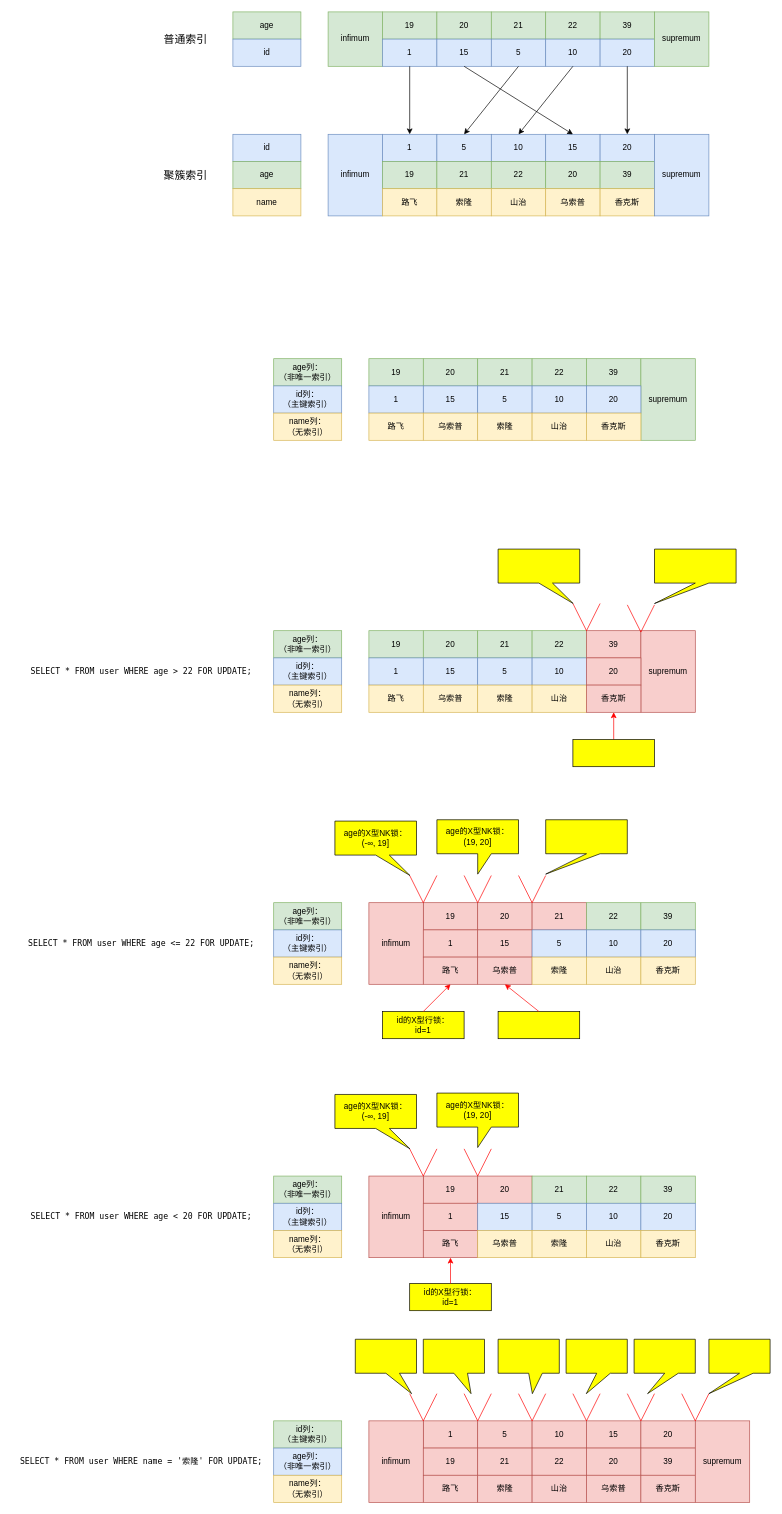
Image size: 782x1514. Some labels were removed from this diagram. Each missing label, with the centre of its shape:
"age的X型NK锁： (20, 21]" belongs at [586,846].
"age的X型NK锁： (22, 39]" belongs at [538,576].
"age的X型NK锁： (39, + ∞ ]" belongs at [695,576].
"id的X型NK锁： (-∞, 1]" belongs at [386,1366].
"id的X型NK锁： (1, 5]" belongs at [454,1366].
"id的X型NK锁： (10, 15]" belongs at [596,1366].
"id的X型NK锁： (15, 20]" belongs at [664,1366].
"id的X型NK锁： (20, +∞]" belongs at [739,1366].
"id的X型NK锁： (5, 10]" belongs at [528,1366].
"id的X型行锁： id=15" belongs at [538,1025].
"id的X型行锁： id=20" belongs at [613,753].
